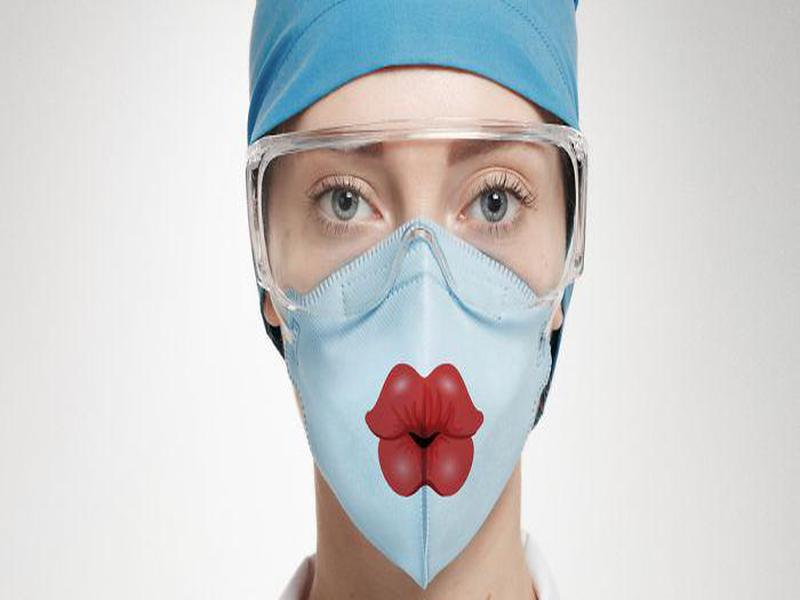with_mask: (258, 83, 580, 599)
